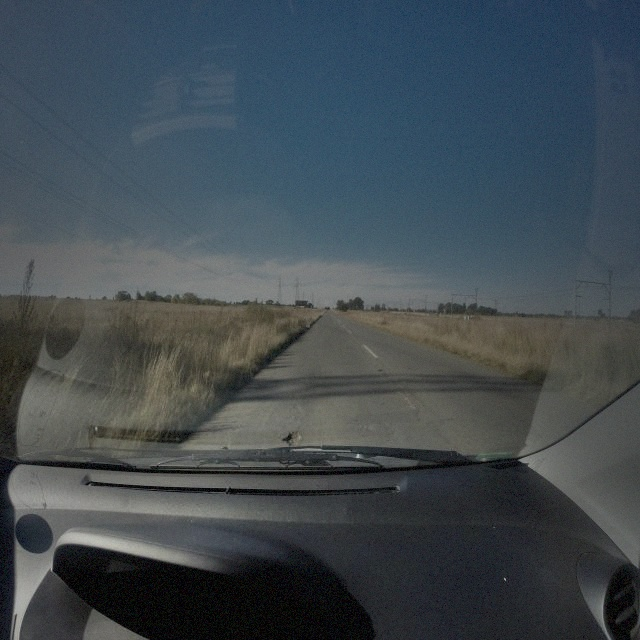pothole: (281, 431, 302, 448)
